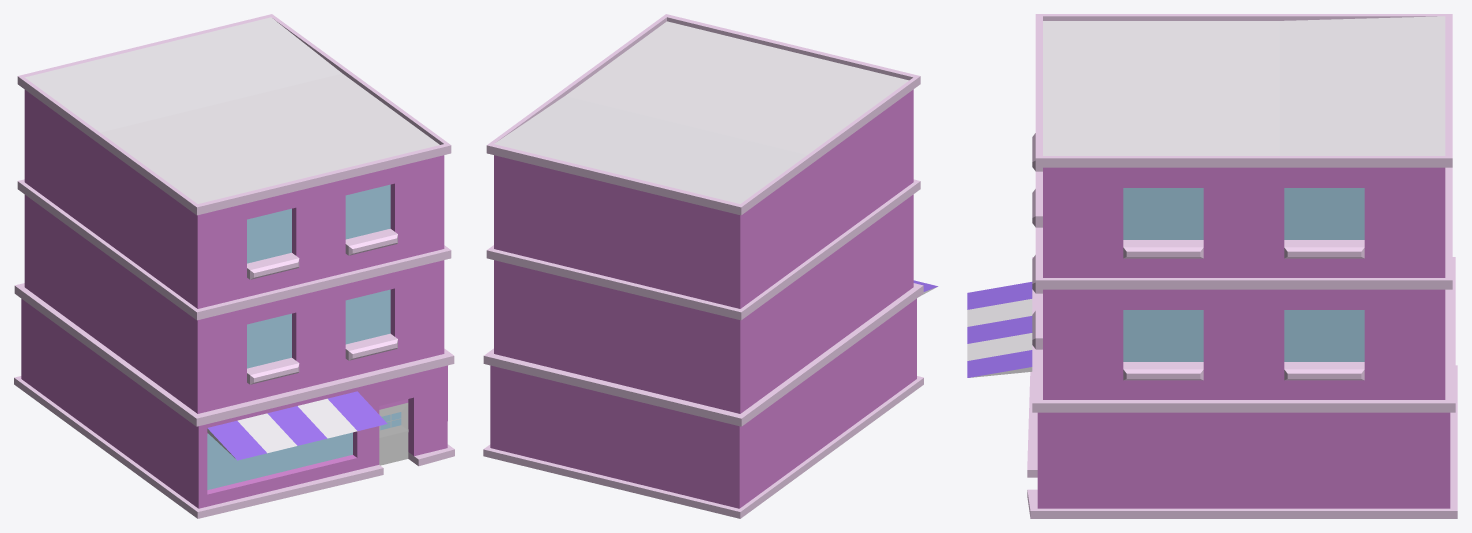
The model's file is storeA.fbx.
The picture shows the model from 3 angles, left to right: view 1: azimuth 30°, elevation 25°; view 2: azimuth 150°, elevation 25°; view 3: azimuth 270°, elevation 25°; orthographic projection. The views are drawn at different scales.
Visible parts, largest first — view 1: StoreA; view 2: StoreA; view 3: StoreA.
Part boxes in pixels (x1=…): StoreA: x1=14, y1=14, x2=454, y2=518; StoreA: x1=483, y1=14, x2=938, y2=518; StoreA: x1=967, y1=14, x2=1457, y2=518.
Bounding box in the file's own units: 1685 × 1918 × 2367.
